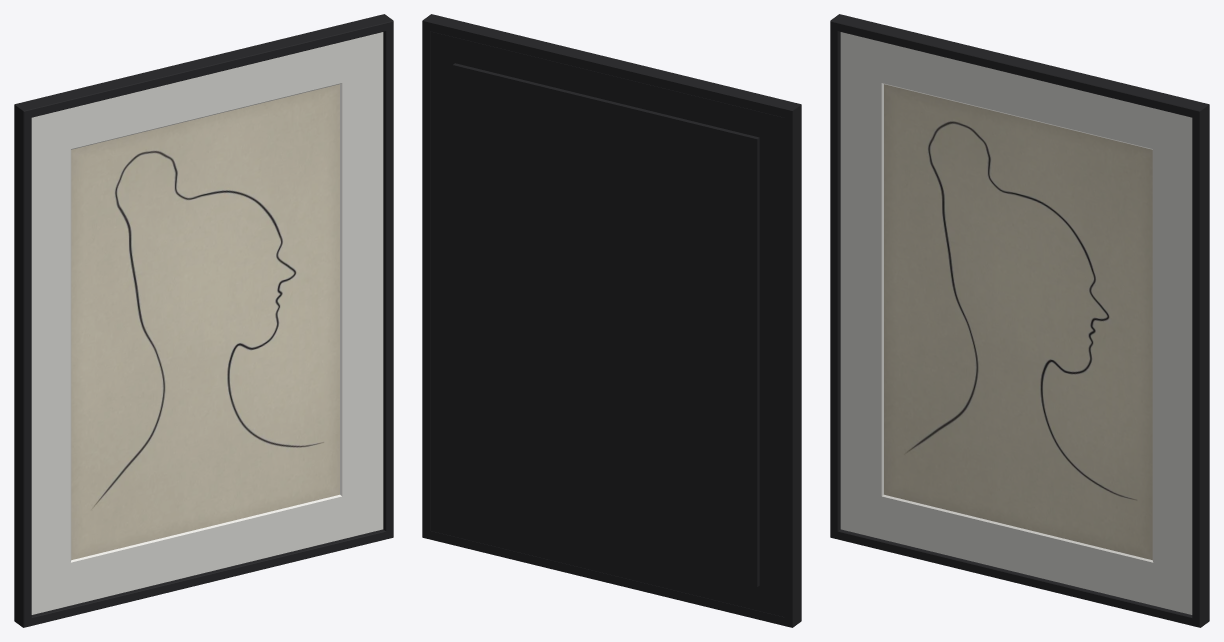
File: art_linework_a.gltf
3 renders of one model, left to right at view 1: azimuth 30°, elevation 25°; view 2: azimuth 150°, elevation 25°; view 3: azimuth 330°, elevation 25°, orthographic.
Parts seen in each view (by area): view 1: Art_LineworkA_Art, Art_LineworkA_Mat, Art_LineworkA_Frame; view 2: Art_LineworkA_Spacer, Art_LineworkA_Backing, Art_LineworkA_Frame; view 3: Art_LineworkA_Art, Art_LineworkA_Mat, Art_LineworkA_Frame.
Boxes of the visible parts, x1=… form: Art_LineworkA_Art: x1=71, y1=84, x2=339, y2=559; Art_LineworkA_Mat: x1=31, y1=32, x2=383, y2=614; Art_LineworkA_Frame: x1=14, y1=14, x2=393, y2=627; Art_LineworkA_Spacer: x1=452, y1=63, x2=759, y2=586; Art_LineworkA_Backing: x1=430, y1=31, x2=784, y2=616; Art_LineworkA_Frame: x1=422, y1=14, x2=801, y2=627; Art_LineworkA_Art: x1=884, y1=84, x2=1152, y2=559; Art_LineworkA_Mat: x1=840, y1=32, x2=1192, y2=614; Art_LineworkA_Frame: x1=830, y1=14, x2=1209, y2=627.
Bounding box in the file's own units: 0.9 × 1.2 × 0.05.
4 materials, 1 textured.
